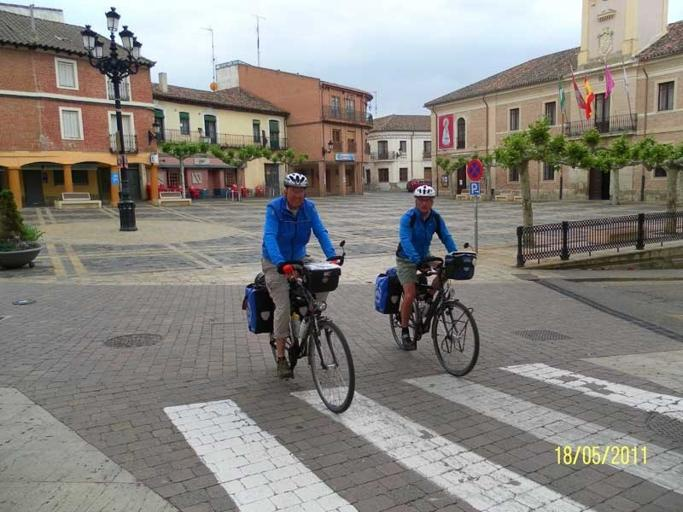non-vehicle: (251, 255, 355, 413), (385, 251, 479, 376)
